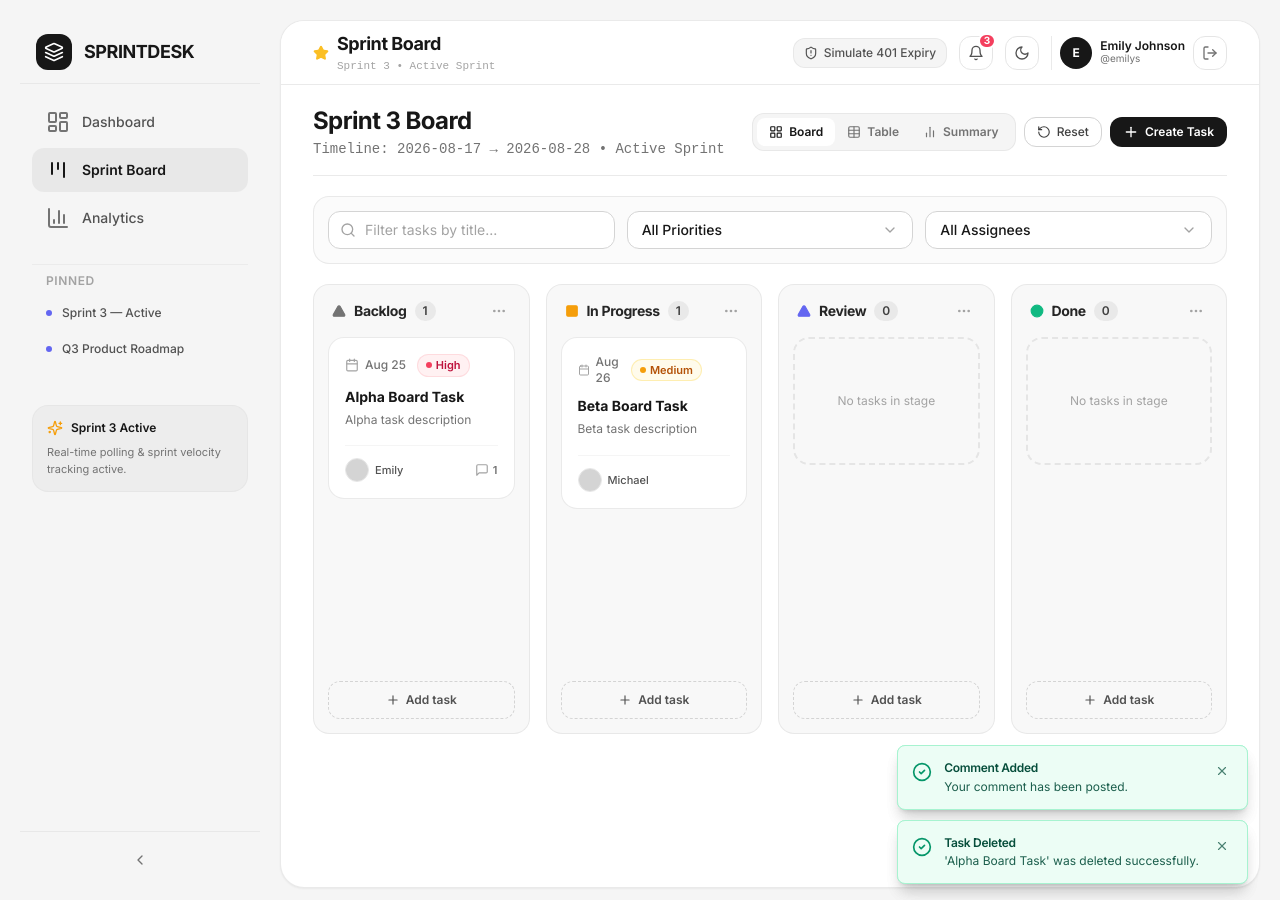
Test: Board UI & Task Details Integration Test Suite › opens task creation modal and adds new task to board
Step 1. Click the button "Create Task" → (1168, 132), box [1110, 117, 1227, 147]
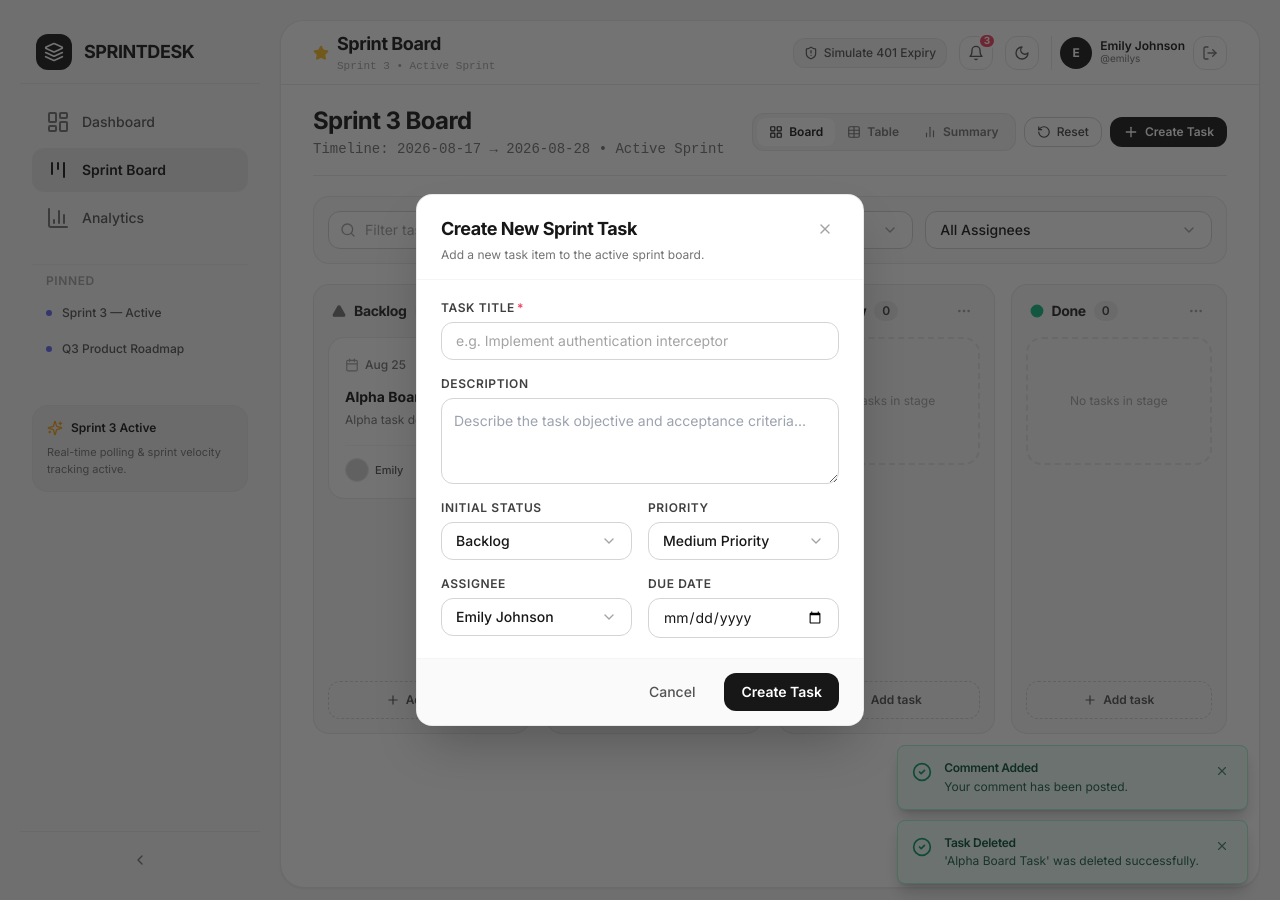
Check: the heading "Create New Sprint Task" is shown, box [441, 218, 637, 239]
Step 2. Type "Newly Created Task" into the field labelled "Task Title*" → (640, 341), box [441, 322, 839, 360]
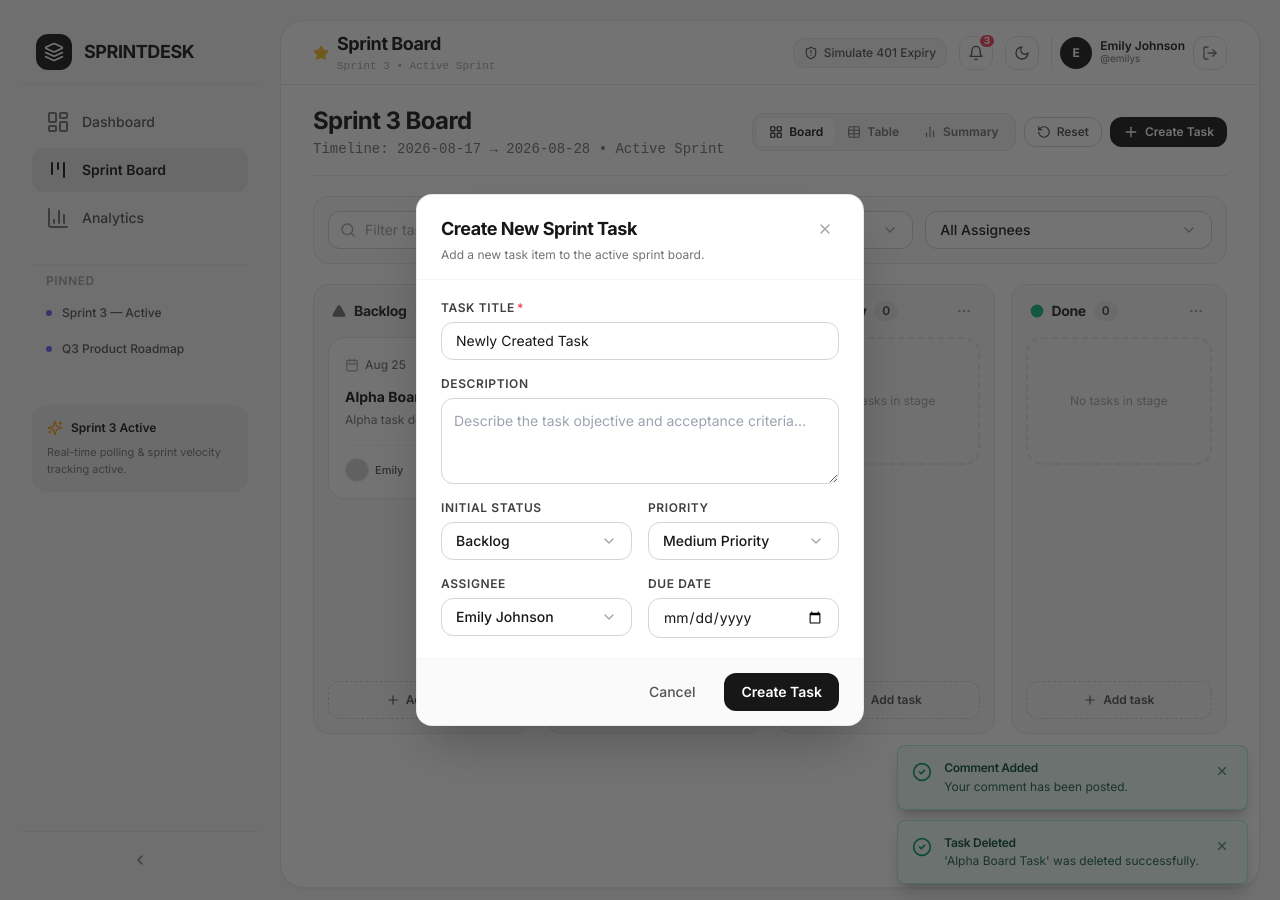
Step 3. Click the button "Create Task" → (782, 692), box [724, 673, 839, 711]
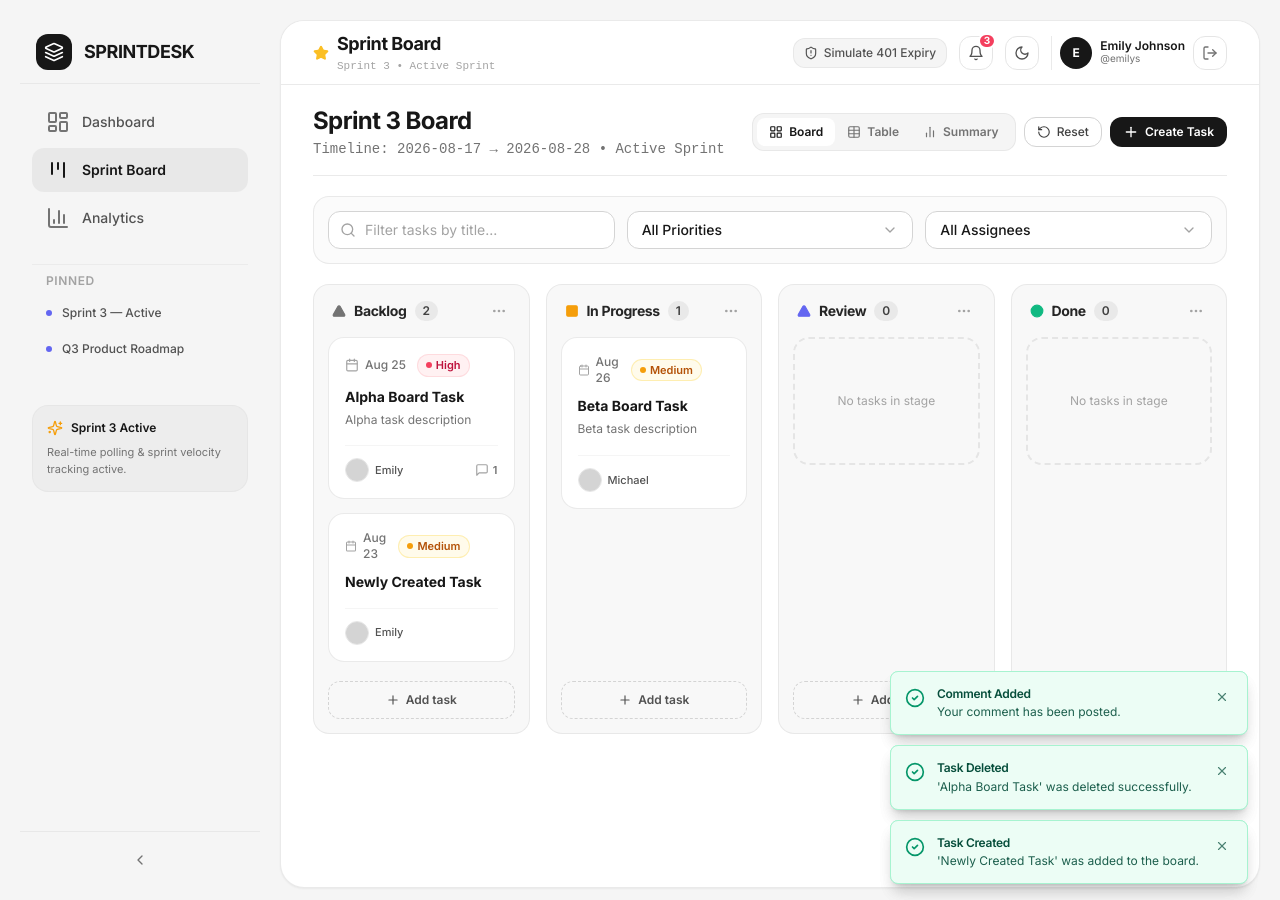
Check: the heading "Newly Created Task" is shown, box [345, 572, 498, 592]
